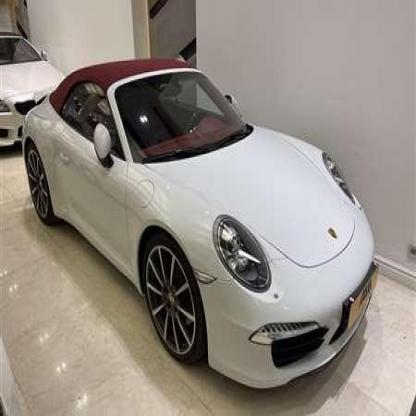Car: (27, 56, 372, 400), (0, 34, 72, 148)
